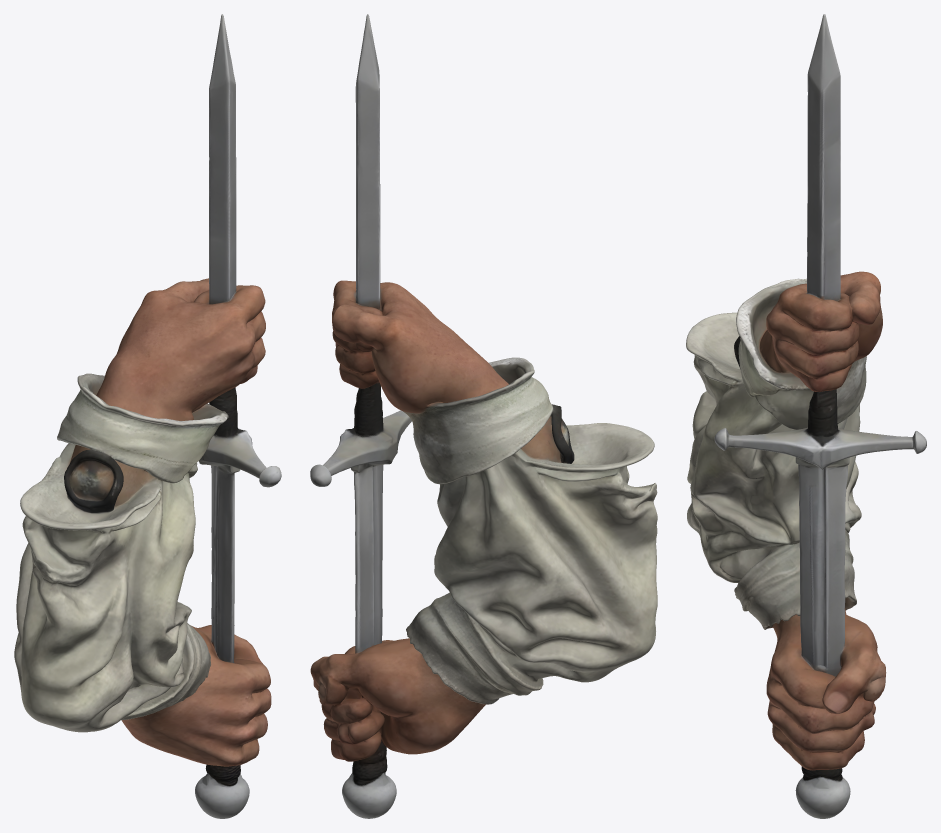
3 renders of one model, left to right at view 1: azimuth 30°, elevation 25°; view 2: azimuth 150°, elevation 25°; view 3: azimuth 270°, elevation 25°, orthographic.
Parts seen in each view (by area): view 1: tripo_node_260f2c38-8495-4ee3-91f6-68e6a35fb6e6; view 2: tripo_node_260f2c38-8495-4ee3-91f6-68e6a35fb6e6; view 3: tripo_node_260f2c38-8495-4ee3-91f6-68e6a35fb6e6.
Boxes of the visible parts, x1,y1,x2,y2 form: tripo_node_260f2c38-8495-4ee3-91f6-68e6a35fb6e6: [14, 14, 281, 818]; tripo_node_260f2c38-8495-4ee3-91f6-68e6a35fb6e6: [310, 14, 657, 818]; tripo_node_260f2c38-8495-4ee3-91f6-68e6a35fb6e6: [686, 14, 926, 818].
Bounding box in the file's own units: 0.377 × 1 × 0.2719.
Materials: 1 (1 with a texture image).
